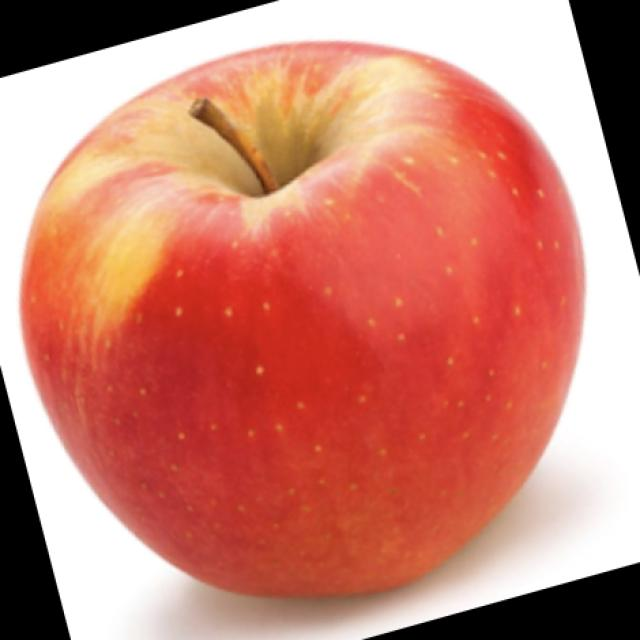organik: (16, 25, 606, 616)
